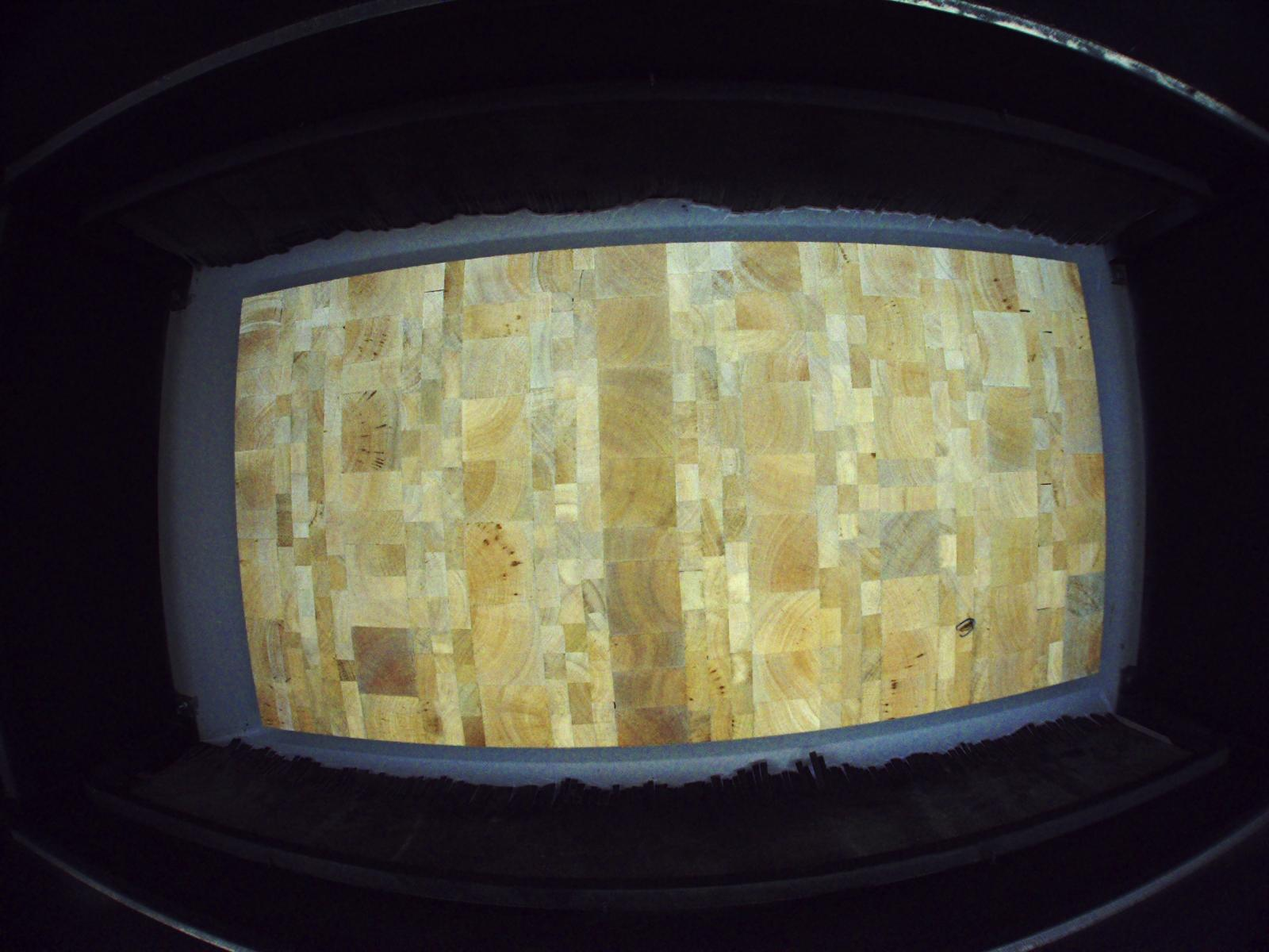sheck_ecuatoriano: (957, 611, 975, 633)
